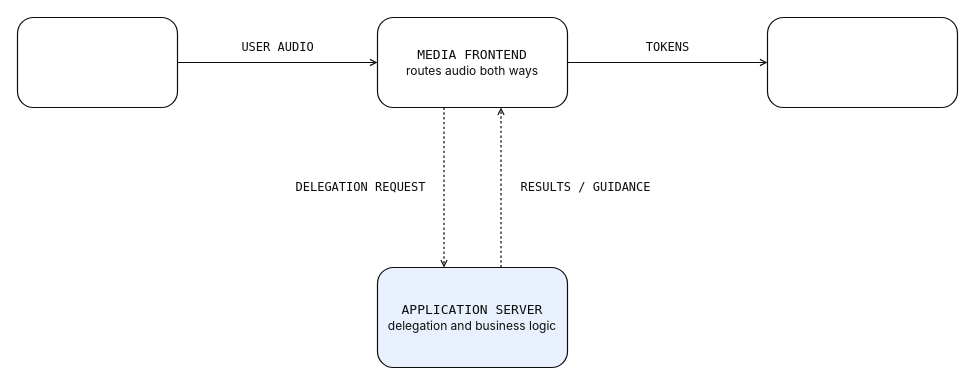
The diagram is 976 pixels wide and 386 high, and some of its shapes have lost their labels. The shapes that lost their labels are listed below. From the top down, each one's box as (x1, y1, x2, y2) in pixels, then its label:
(16, 16, 178, 108): USER speaks and listens
(766, 16, 958, 108): VOICE MODEL streams responses
